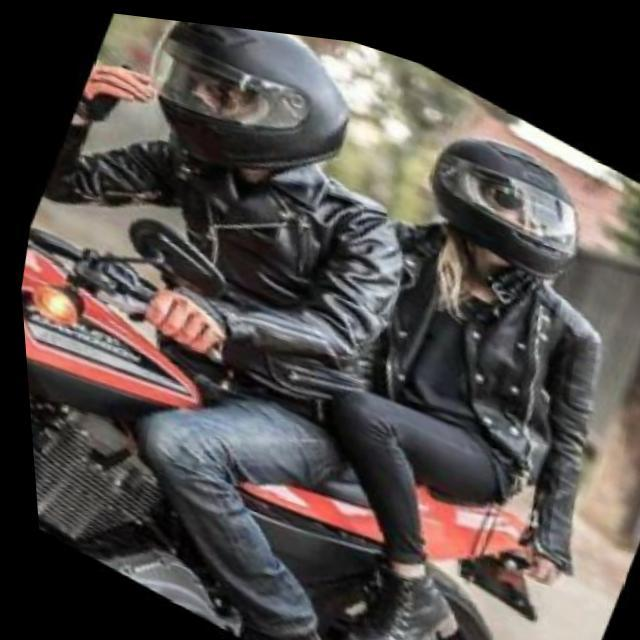Helmet: (425, 129, 589, 288)
